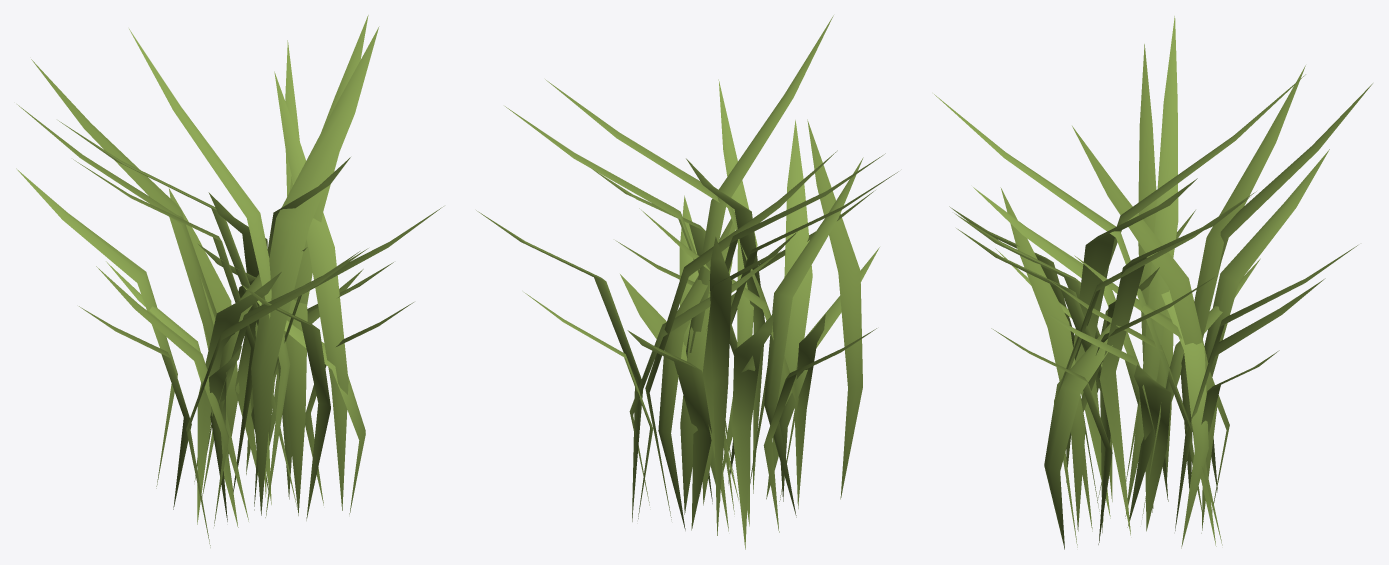
File: grass-tuft-035.glb
3 views of the same model, side by side, from view 1: azimuth 30°, elevation 25°; view 2: azimuth 150°, elevation 25°; view 3: azimuth 270°, elevation 25° (orthographic).
Parts seen in each view (by area): view 1: grass-tuft-035 / N07 / sunlit young leaf, grass-tuft-035 / N08 / meadow blade; view 2: grass-tuft-035 / N07 / sunlit young leaf, grass-tuft-035 / N08 / meadow blade; view 3: grass-tuft-035 / N07 / sunlit young leaf, grass-tuft-035 / N08 / meadow blade.
Part boxes in pixels (<box>): grass-tuft-035 / N07 / sunlit young leaf: <box>16,15,443,527</box>; grass-tuft-035 / N08 / meadow blade: <box>17,59,413,547</box>; grass-tuft-035 / N07 / sunlit young leaf: <box>476,15,885,549</box>; grass-tuft-035 / N08 / meadow blade: <box>615,119,898,535</box>; grass-tuft-035 / N07 / sunlit young leaf: <box>934,16,1357,549</box>; grass-tuft-035 / N08 / meadow blade: <box>949,44,1372,544</box>.
Size of the model in its own units: 0.2755 by 0.3195 by 0.2995.
